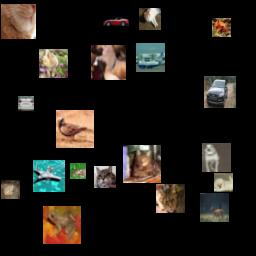airplane: (33, 160, 65, 192), (136, 43, 165, 72)
automobile: (204, 76, 236, 108), (103, 8, 129, 34), (18, 96, 34, 112)
bird: (56, 110, 94, 148)
cat: (123, 145, 161, 183), (1, 4, 36, 39), (91, 45, 126, 80), (39, 49, 68, 78), (156, 184, 185, 213), (94, 166, 116, 188), (139, 8, 161, 30)
deer: (200, 193, 229, 222), (70, 163, 86, 179)
dog: (202, 143, 231, 172), (214, 173, 233, 192)
frog: (43, 206, 81, 244), (212, 18, 231, 37), (1, 180, 20, 199)
